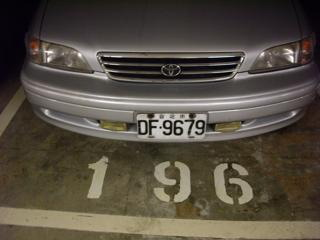plate: (135, 111, 209, 141)
